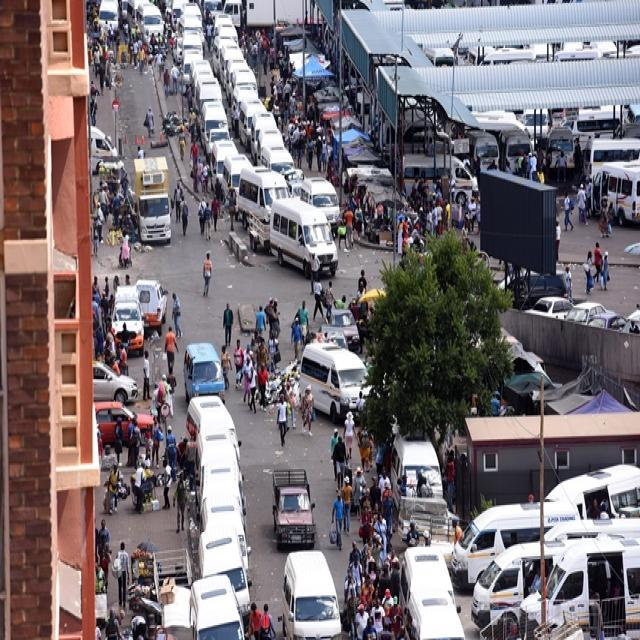Heavy Duty Truck: (133, 159, 176, 244)
MiniBus taxi: (300, 212, 339, 280)
Pedestrians: (275, 388, 289, 442), (171, 291, 185, 337), (202, 250, 213, 296), (222, 301, 233, 346)
